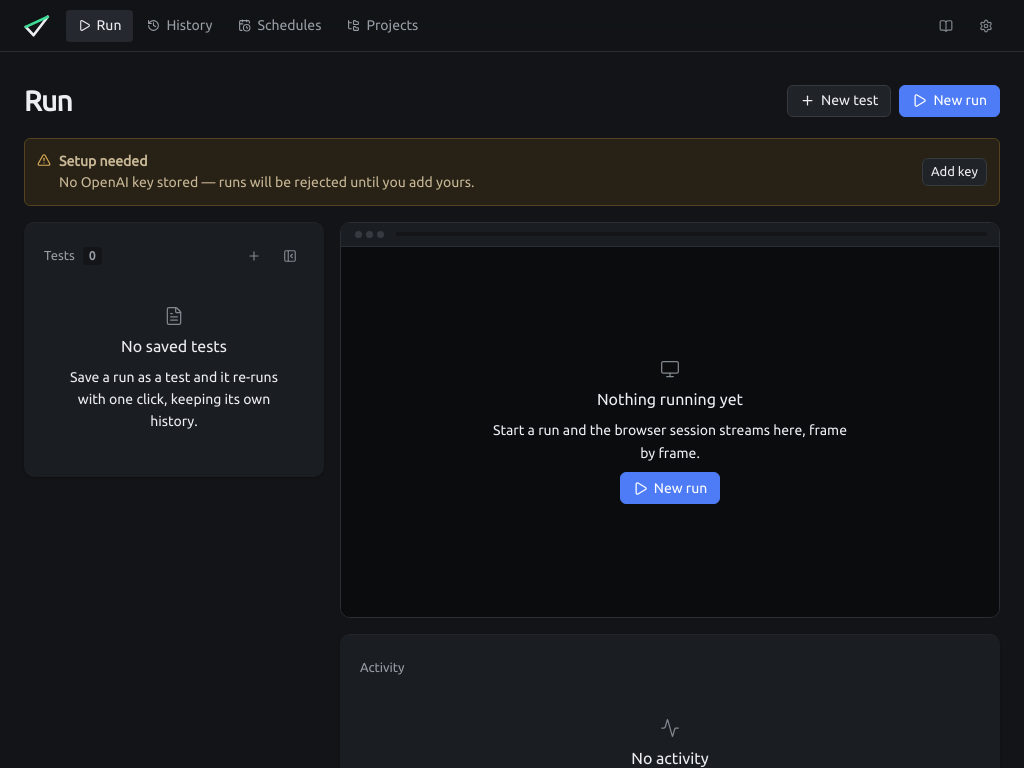
Billing panel (US-022) › says a cancelled-but-active subscription ENDS, not renews (US-051)
The width and height of the screenshot is (1024, 768).
expect the text "History" is shown: met, box [166,15,212,36]
Click the button named "Settings" at (986, 26), box [972,12,1000,40]
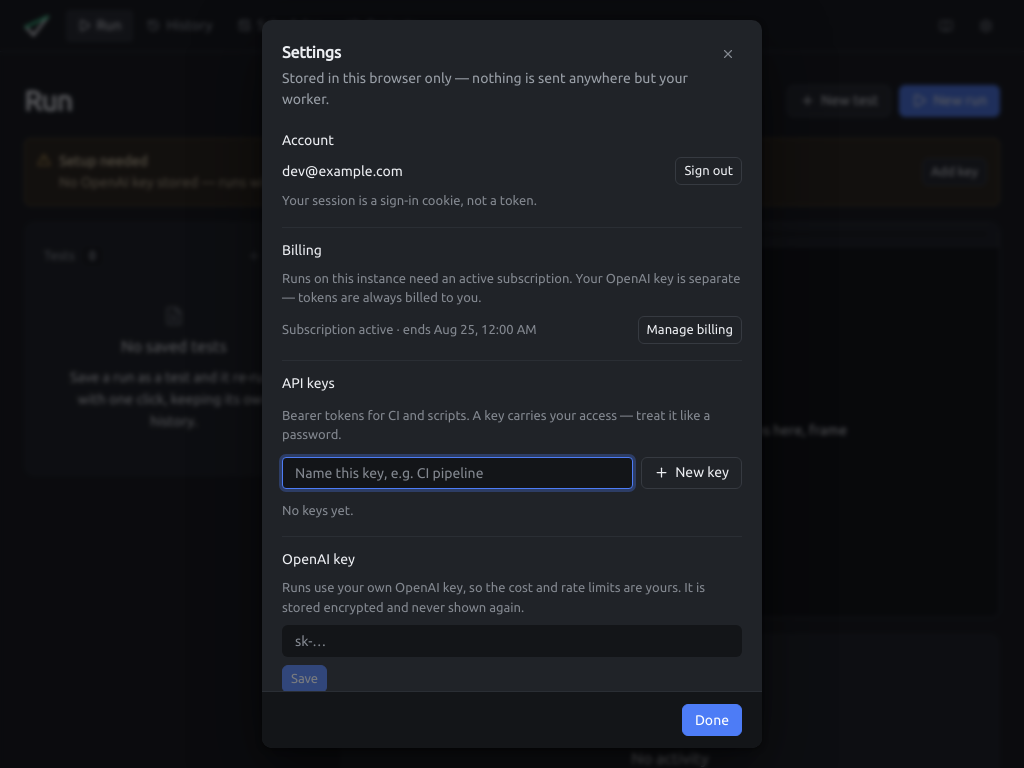
expect the text "Subscription active · ends Aug 25, 12:00 AM" is shown: met, box [282,322,537,336]
expect the button "Manage billing" is shown: met, box [638,316,742,344]
